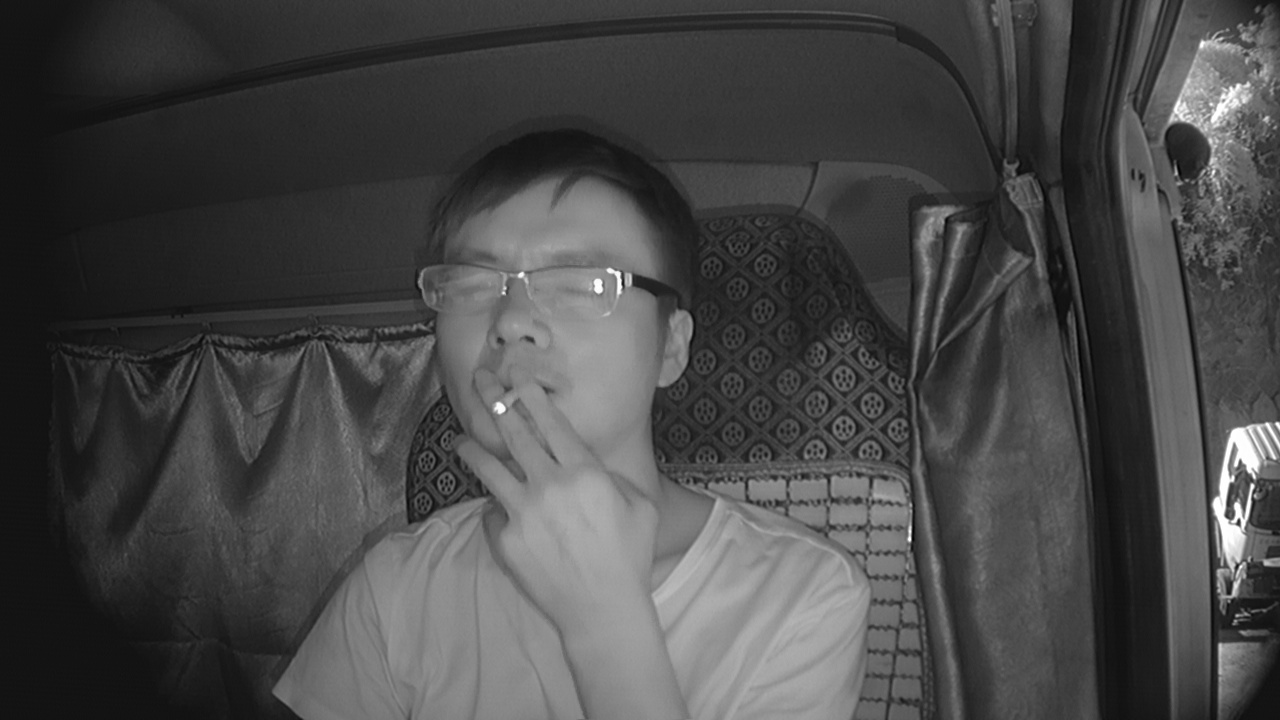hand: (464, 366, 645, 586)
